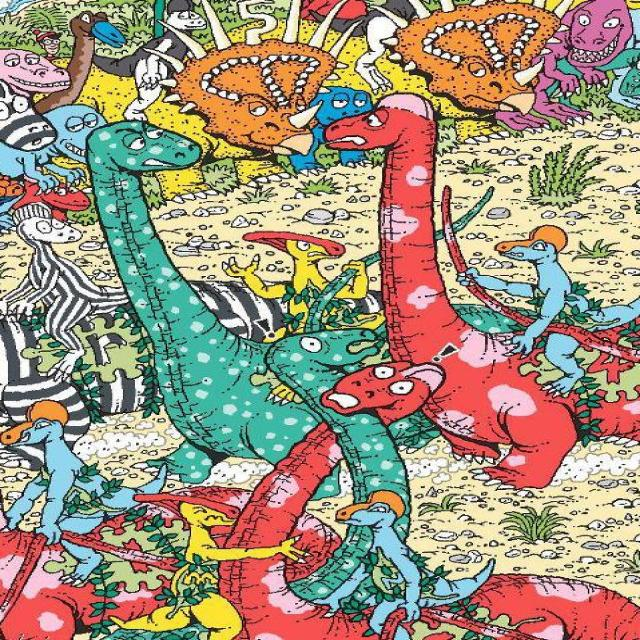waldo: (32, 30, 63, 54)
